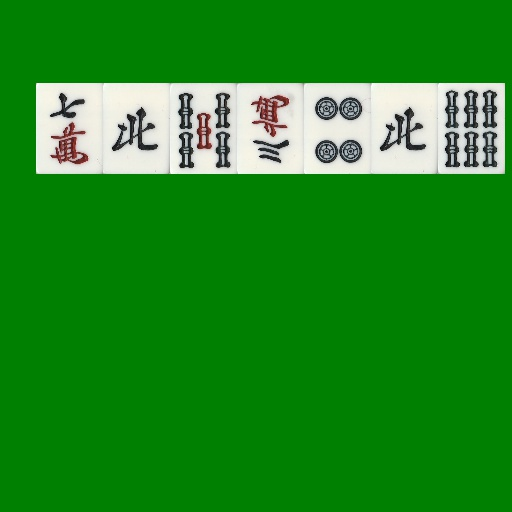3m: (237, 83, 304, 174)
4p: (304, 83, 371, 174)
5s: (170, 83, 237, 174)
6s: (438, 83, 505, 174)
7m: (36, 83, 103, 174)
north: (103, 83, 170, 174), (371, 83, 438, 174)
